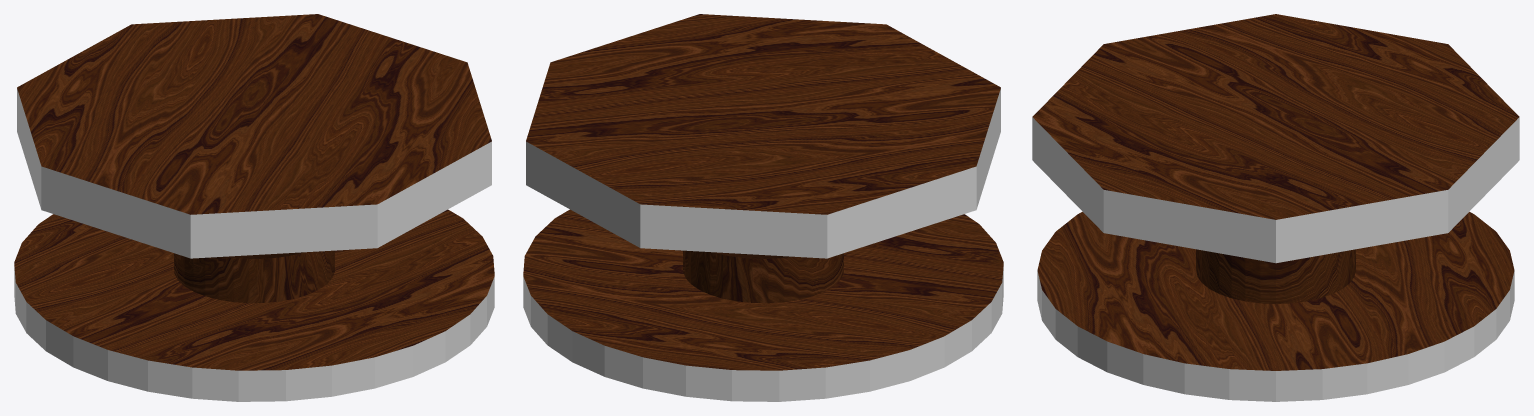
The model's file is Octagon.fbx.
The picture shows the model from 3 angles, left to right: view 1: azimuth 30°, elevation 25°; view 2: azimuth 150°, elevation 25°; view 3: azimuth 270°, elevation 25°; orthographic projection.
Visible parts, largest first — view 1: Octagon; view 2: Octagon; view 3: Octagon.
Part boxes in pixels (bbox=[...]): Octagon: bbox=[14, 14, 494, 401]; Octagon: bbox=[523, 14, 1003, 401]; Octagon: bbox=[1032, 14, 1519, 401].
Size of the model in its own units: 130 by 54.35 by 130.
